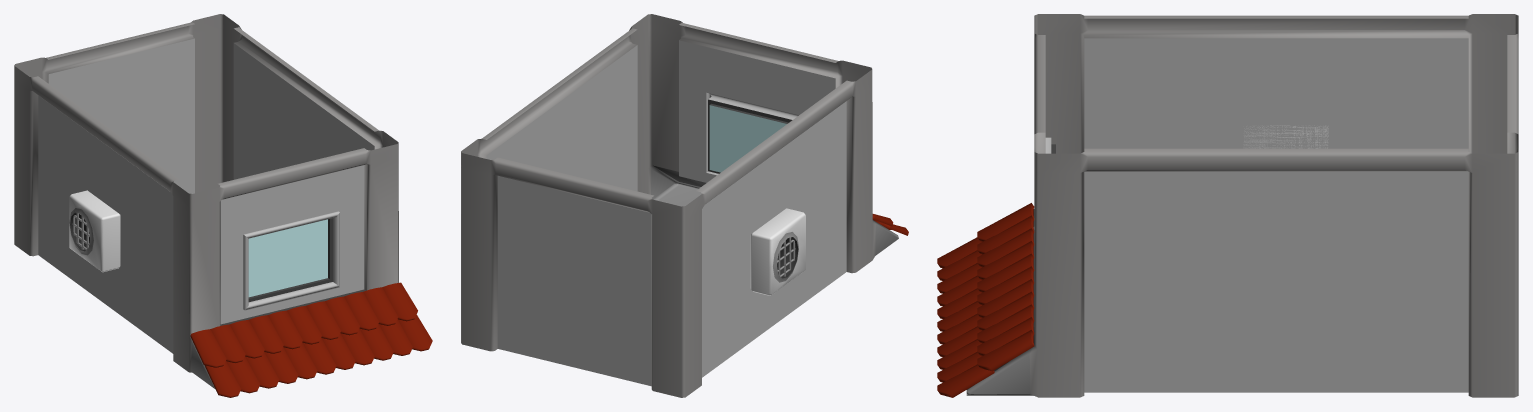
The model's file is MidFloor4.fbx.
3 views of the same model, side by side, from view 1: azimuth 30°, elevation 25°; view 2: azimuth 150°, elevation 25°; view 3: azimuth 270°, elevation 25° (orthographic). The views are drawn at different scales.
Visible parts, largest first — view 1: Midfloor4, ACUnit1; view 2: Midfloor4, ACUnit1; view 3: Midfloor4, ACUnit1.
Part boxes in pixels (x1=…): Midfloor4: x1=14, y1=14, x2=432, y2=397; ACUnit1: x1=69, y1=190, x2=120, y2=272; Midfloor4: x1=461, y1=14, x2=908, y2=397; ACUnit1: x1=750, y1=208, x2=805, y2=295; Midfloor4: x1=937, y1=14, x2=1518, y2=397; ACUnit1: x1=1243, y1=125, x2=1328, y2=148.
Bounding box in the file's own units: 463 × 351 × 756.
